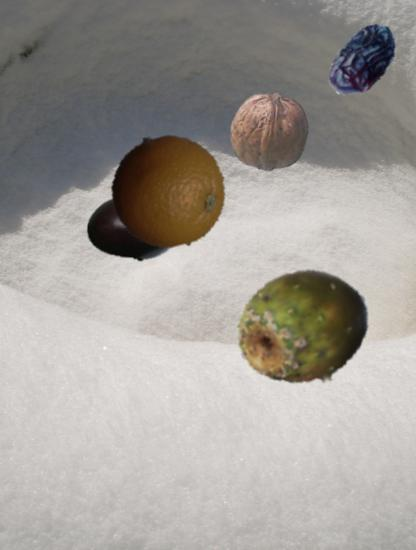Cactus: (236, 261, 373, 398)
Dates: (321, 18, 406, 103)
Eggplant: (86, 181, 181, 276)
Orange: (110, 133, 227, 250)
Walnut: (229, 91, 310, 172)
